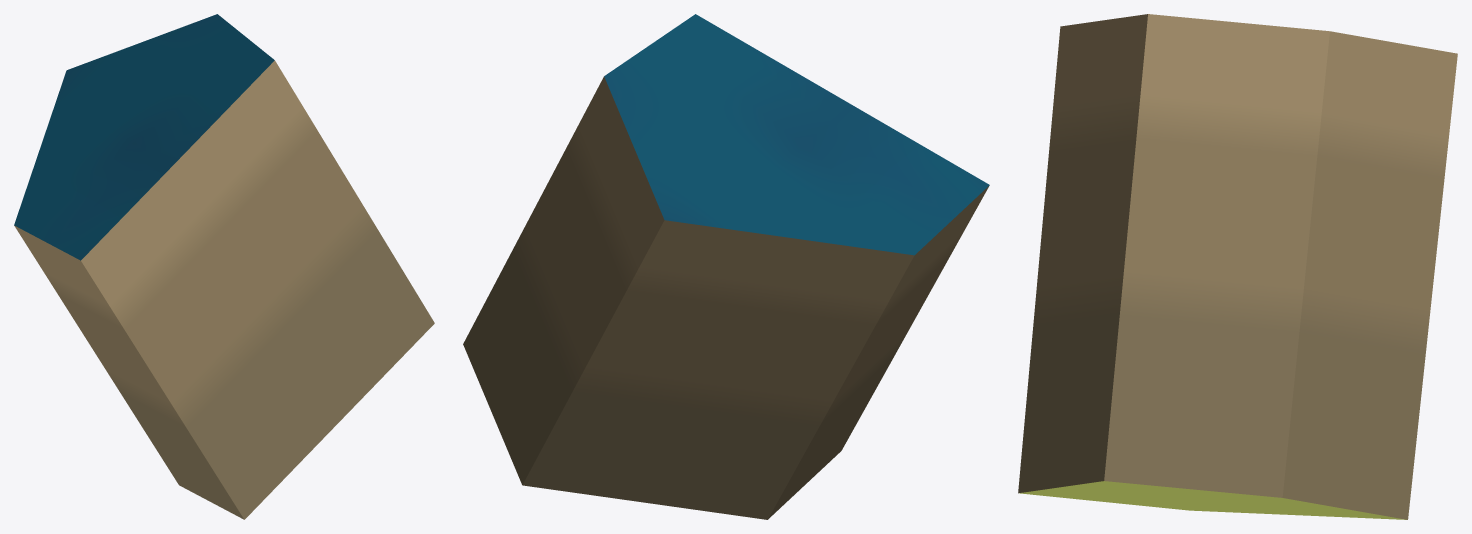
The model's file is 060c_Federated_States_of_Micronesia.glb.
The picture shows the model from 3 angles, left to right: view 1: azimuth 30°, elevation 25°; view 2: azimuth 150°, elevation 25°; view 3: azimuth 270°, elevation 25°; orthographic projection. The views are drawn at different scales.
Visible parts, largest first — view 1: part_0; view 2: part_0; view 3: part_0.
Part boxes in pixels (left/top/right/bottom): part_0: left=14, top=14, right=434, bottom=519; part_0: left=463, top=14, right=989, bottom=519; part_0: left=1018, top=14, right=1457, bottom=519.
Size of the model in its own units: 0.2469 by 0.2574 by 0.1873.
1 material, 1 textured.
